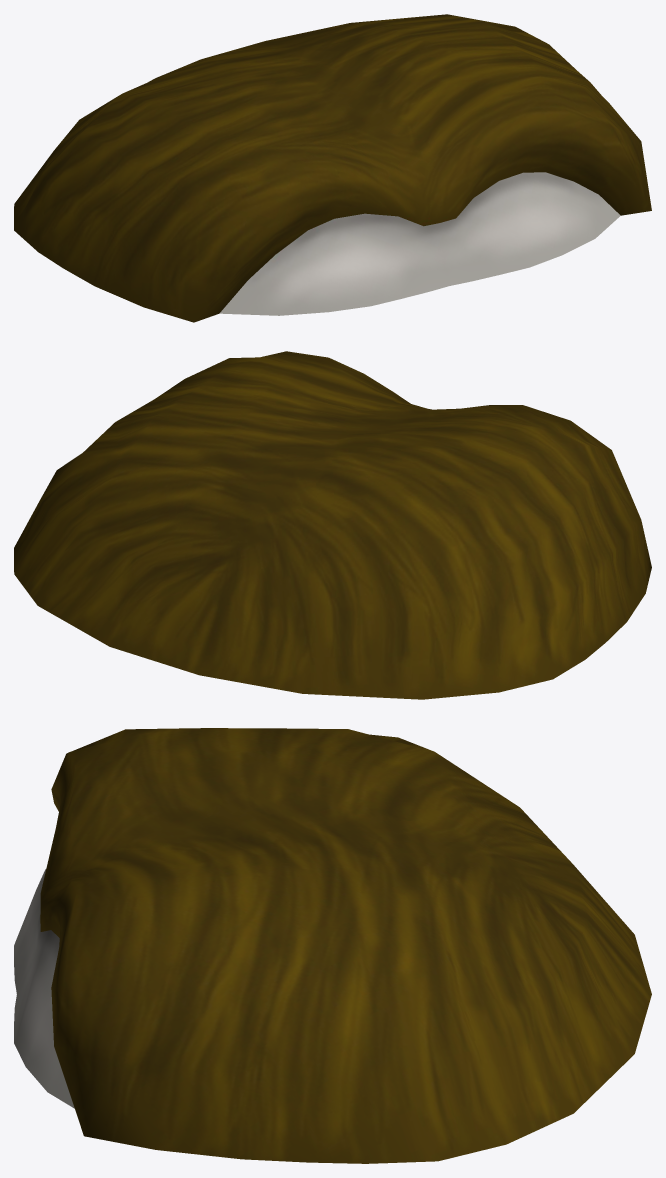
The model's file is Cup_of_head.FBX.
3 views of the same model, one above another, from view 1: azimuth 30°, elevation 25°; view 2: azimuth 150°, elevation 25°; view 3: azimuth 270°, elevation 25° (orthographic). The views are drawn at different scales.
Visible parts, largest first — view 1: cup_of_haed; view 2: cup_of_haed; view 3: cup_of_haed.
Boxes of the visible parts, x1,y1,x2,y2 form: cup_of_haed: (14, 14, 651, 322); cup_of_haed: (14, 351, 651, 699); cup_of_haed: (14, 728, 651, 1163).
Size of the model in its own units: 44.51 by 35.39 by 10.99.
1 material, 1 textured.
